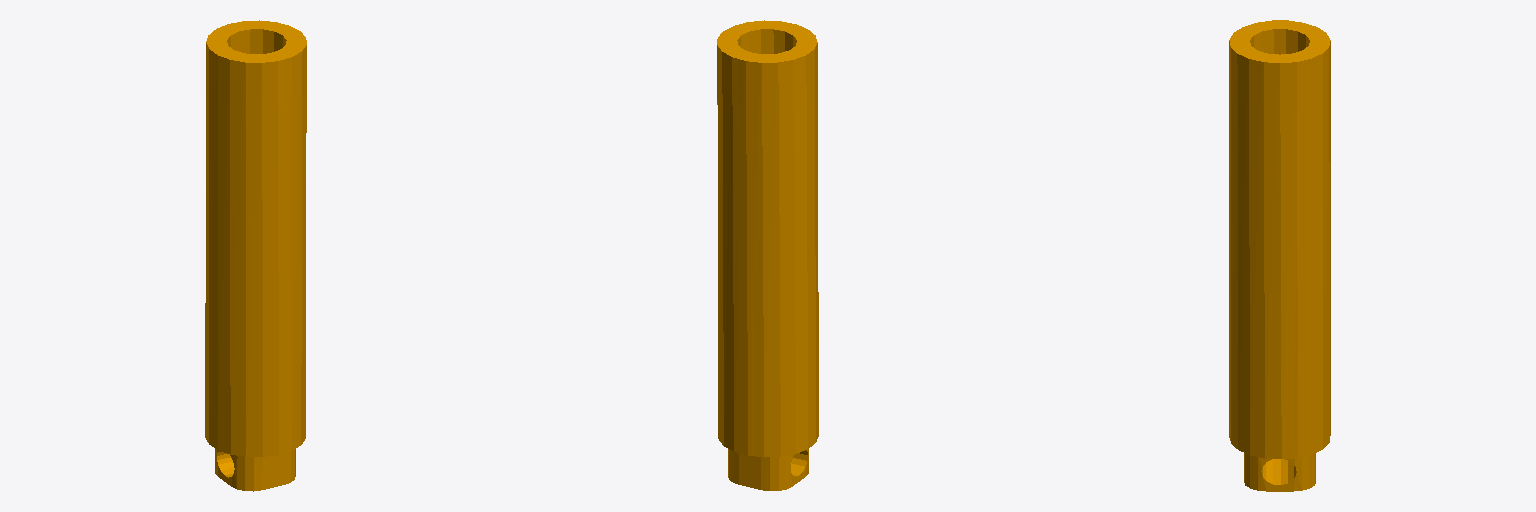
robot.urdf — 00537_socket:
<?xml version="1.0"?>
<robot name="00537_socket">
	<link name="00537_socket">
		<visual>
			<geometry>
				<mesh filename="../mesh/00537/asset_socket.obj"/>
			</geometry>
		</visual>
		<collision>
			<geometry>
				<mesh filename="../mesh/00537/asset_socket.obj"/>
			</geometry>
			<sdf resolution="256"/>
		</collision>
	</link>
</robot>

--- Facts derived from the render (not from the file) ---
Views: 3 orthographic renders of the robot side by side, from view 1: azimuth 30°, elevation 25°; view 2: azimuth 150°, elevation 25°; view 3: azimuth 270°, elevation 25°.
Robot: 00537_socket — 1 links, 0 joints (none); root link 00537_socket; default pose: every joint at zero.
Visible links, largest first — view 1: 00537_socket; view 2: 00537_socket; view 3: 00537_socket.
Boxes of the visible links, left/top/right/bottom form: 00537_socket: left=205, top=20, right=306, bottom=491; 00537_socket: left=717, top=20, right=818, bottom=490; 00537_socket: left=1229, top=20, right=1330, bottom=491.
Bounding box of the posed robot: 0.0139 × 0.0137 × 0.065 m (x, y, z).
Meshes: 1 distinct files referenced, 1 mesh visuals loaded (1 OBJ).
